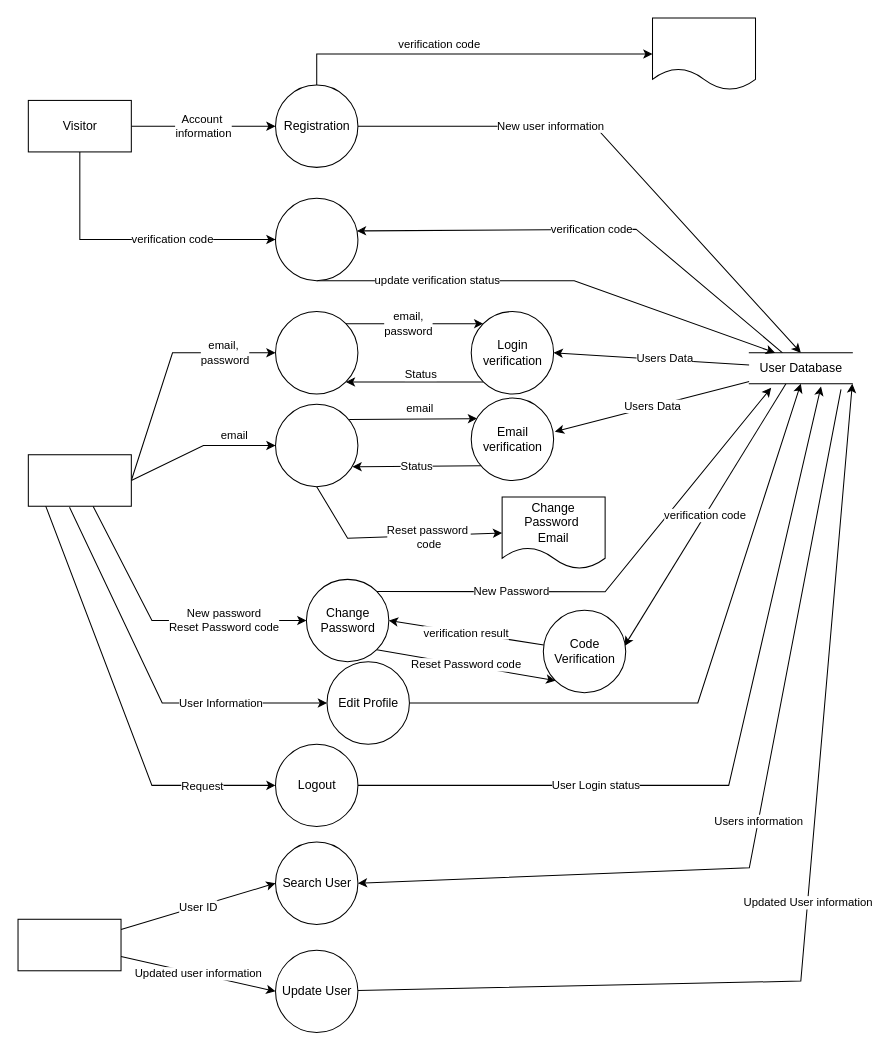
Image size: 890x1051. Some labels were removed from this diagram. The shapes that lost their labels are listed below. From the top down, each one's box as (x1, y1, x2, y2) in pixels, then its label:
(651, 17, 756, 90): Confirmation Email
(274, 197, 358, 281): Account Verification
(274, 311, 358, 394): Login
(274, 403, 358, 487): Forgot Passaword
(27, 454, 131, 506): Registered User
(17, 918, 121, 971): Admin
